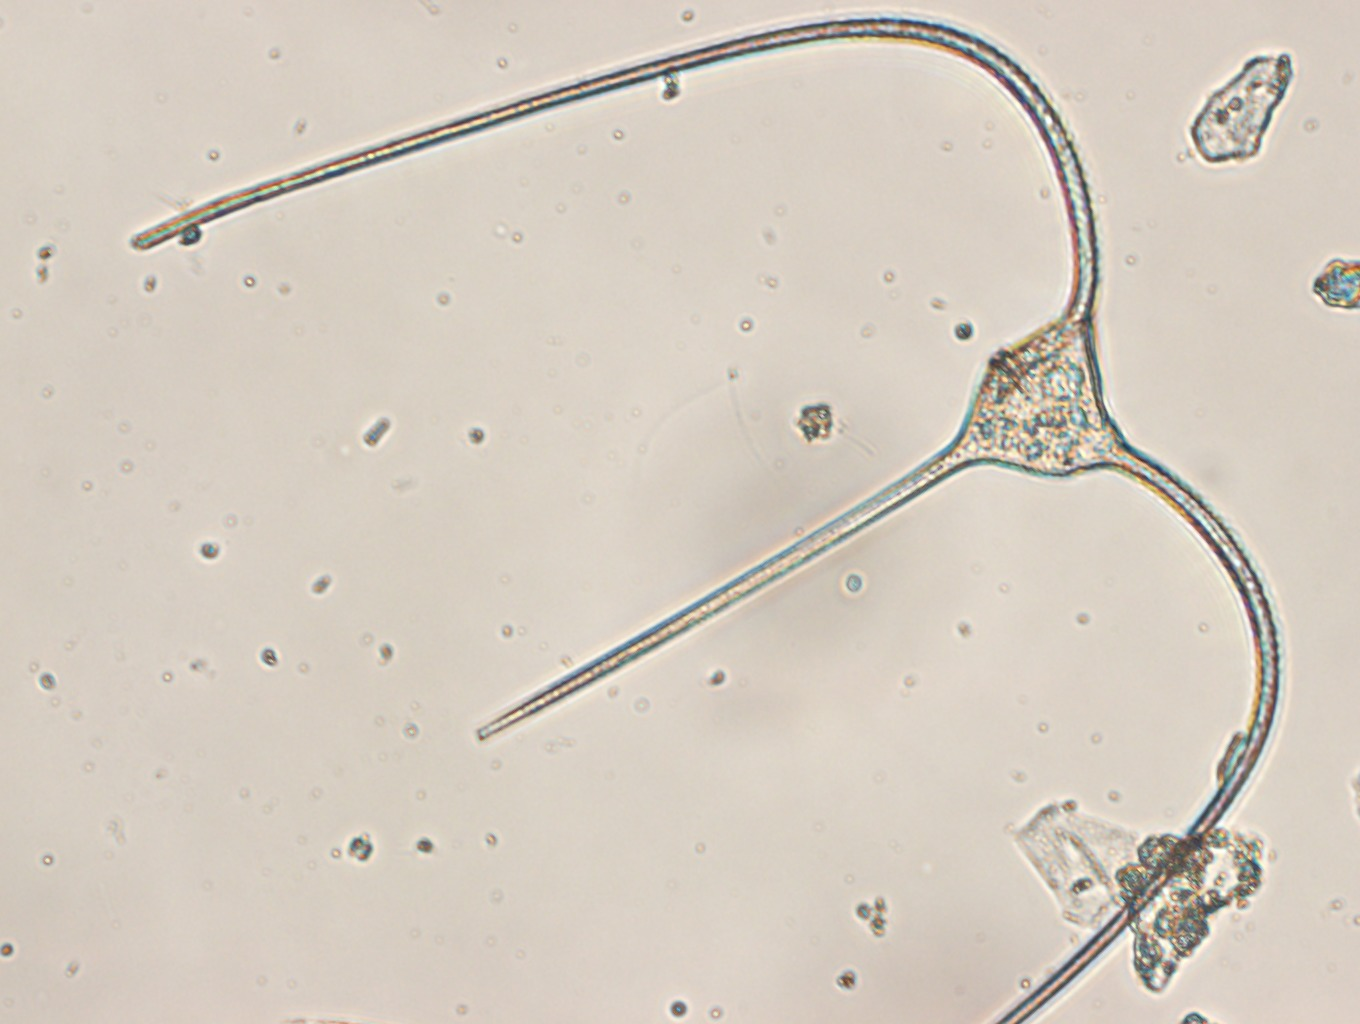ceratium trichoceros: (125, 14, 1284, 1023)
